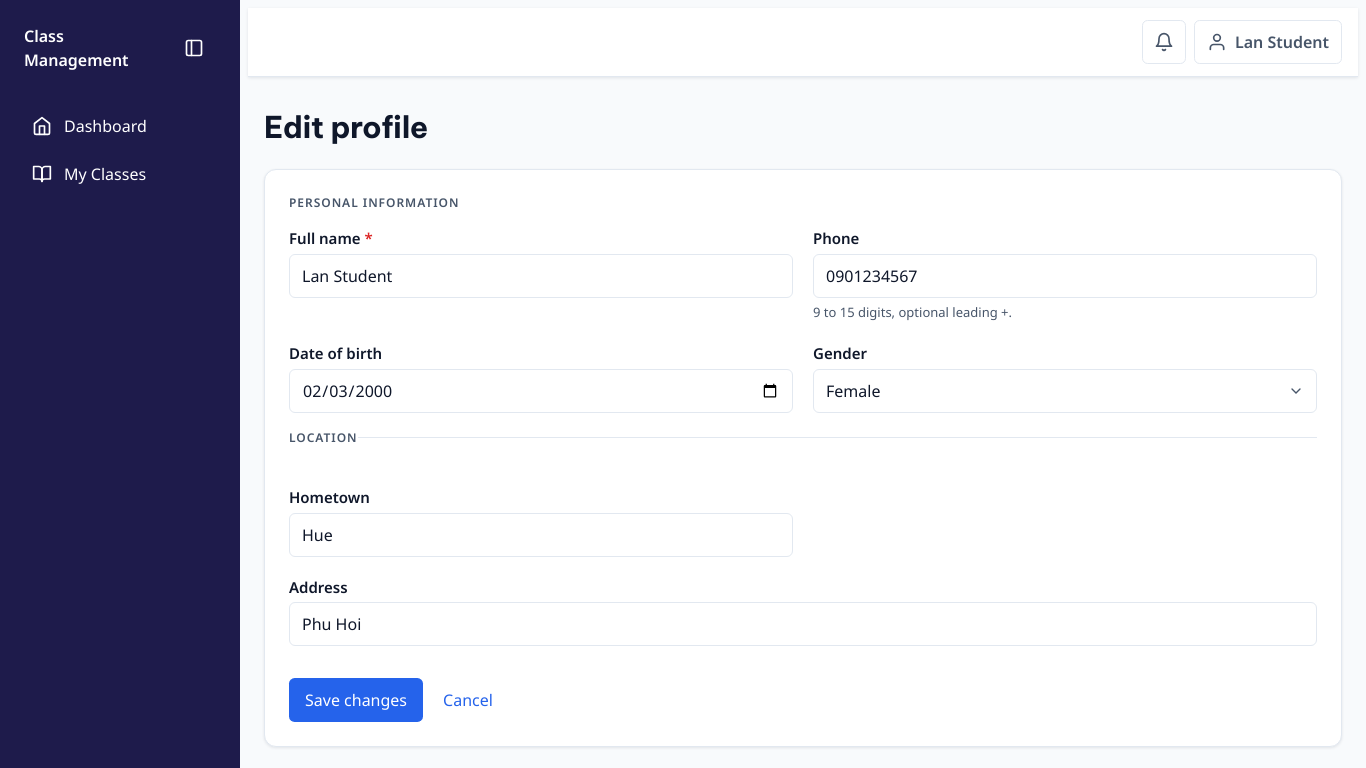
Profile › keeps profile drafts and shows field errors after a 422
Step 1. Replace the text in the field labelled "Full name" with "X" → (541, 276), box [289,254,793,298]
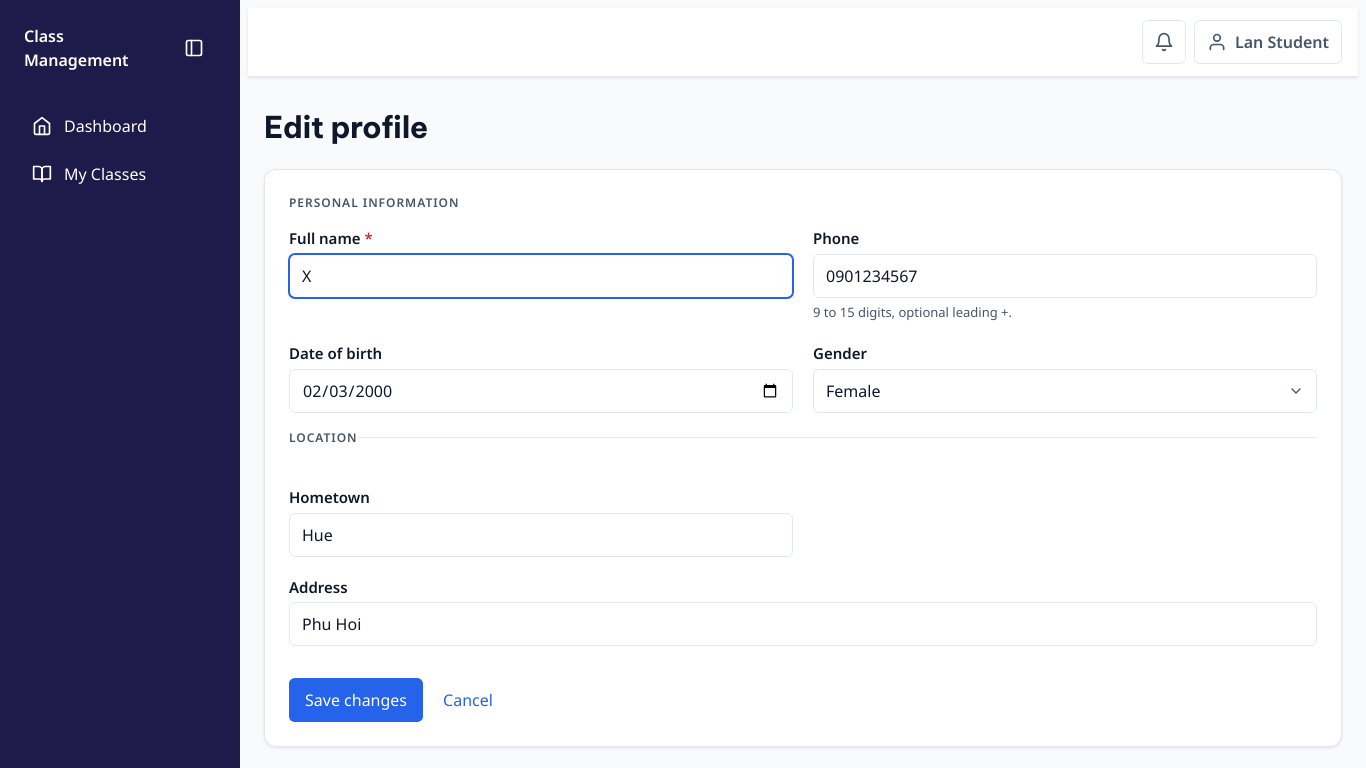
Step 2. Click the button "Save changes" → (356, 700), box [289,678,423,722]
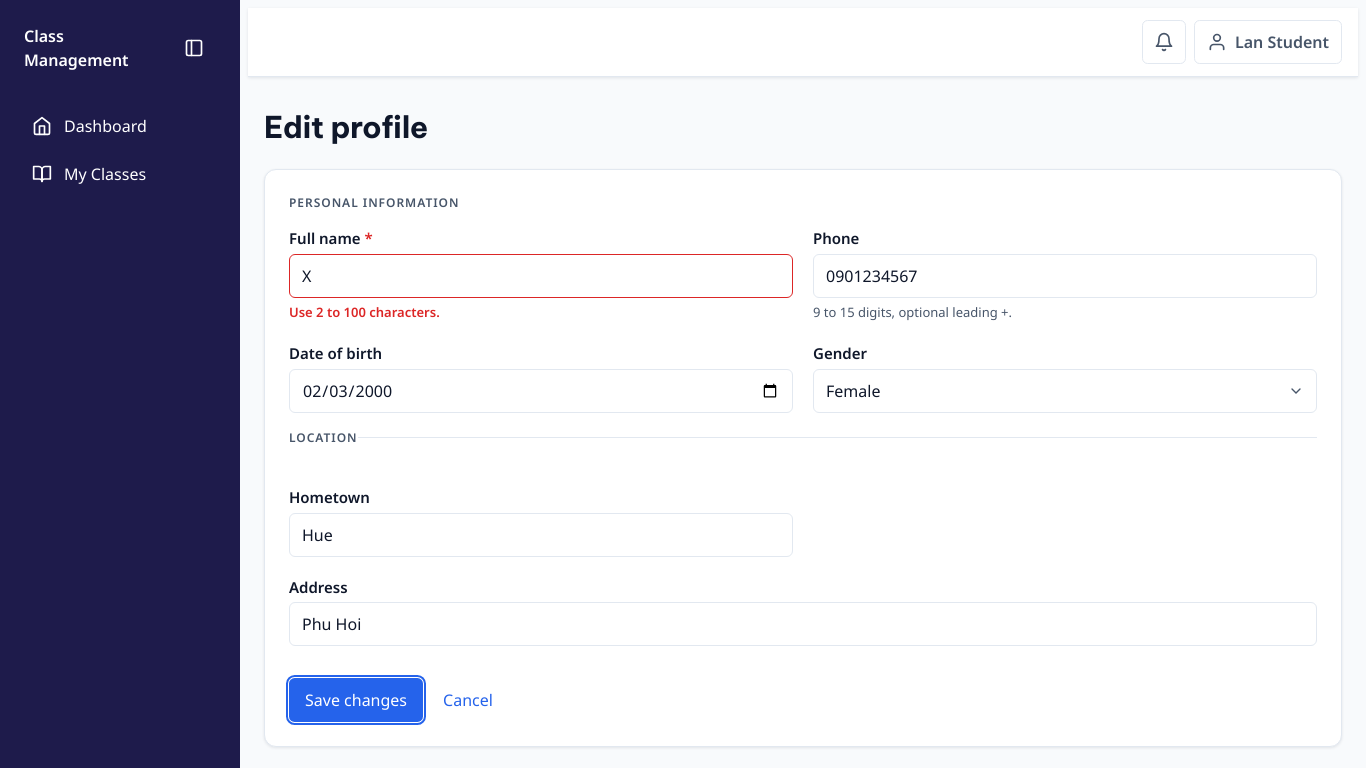
Expected: the text "Use 2 to 100 characters." is shown, [289,303,440,321]
